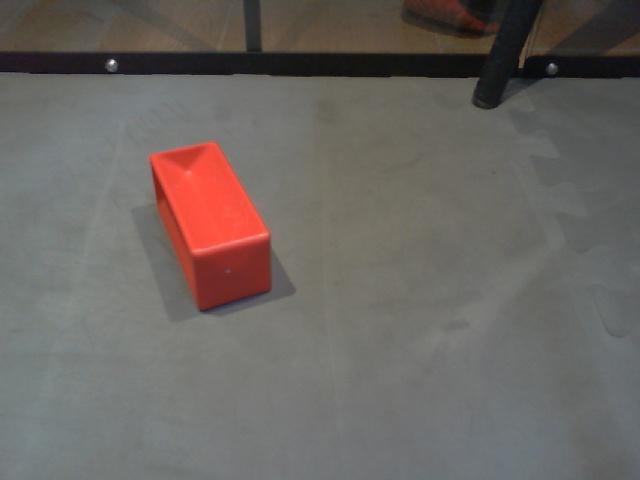RedSample: (147, 140, 274, 315)
